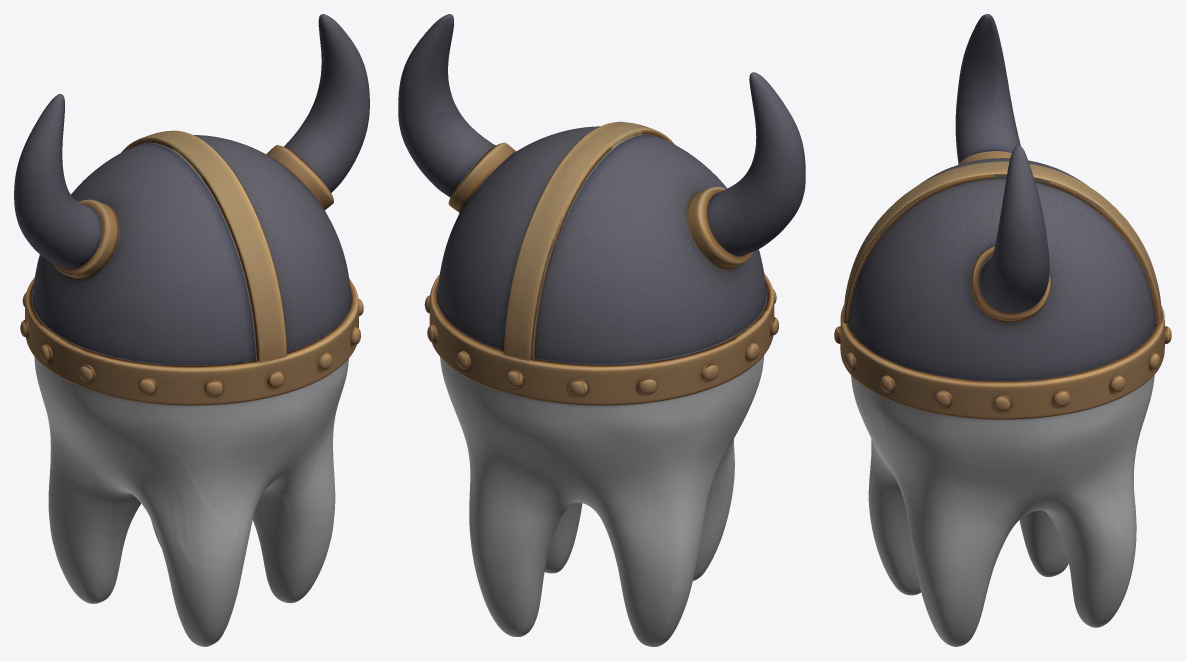
File: dental-viking-web.glb
3 renders of one model, left to right at view 1: azimuth 30°, elevation 25°; view 2: azimuth 150°, elevation 25°; view 3: azimuth 270°, elevation 25°, orthographic. The views are drawn at different scales.
Parts seen in each view (by area): view 1: tripo_node_c90c0795-5219-42f2-8441-db2b7903b529; view 2: tripo_node_c90c0795-5219-42f2-8441-db2b7903b529; view 3: tripo_node_c90c0795-5219-42f2-8441-db2b7903b529.
Part boxes in pixels (left/top/right/bottom): tripo_node_c90c0795-5219-42f2-8441-db2b7903b529: left=14, top=14, right=369, bottom=646; tripo_node_c90c0795-5219-42f2-8441-db2b7903b529: left=398, top=14, right=805, bottom=646; tripo_node_c90c0795-5219-42f2-8441-db2b7903b529: left=834, top=14, right=1171, bottom=646.
Bounding box in the file's own units: 0.6895 × 0.9791 × 0.5655.
Materials: 1 (1 with a texture image).
